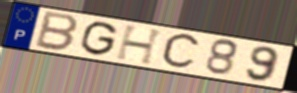8: (202, 38, 241, 78)
9: (245, 46, 282, 83)
B: (32, 10, 82, 53)
C: (159, 32, 203, 71)
G: (78, 21, 120, 58)
H: (114, 23, 168, 67)
